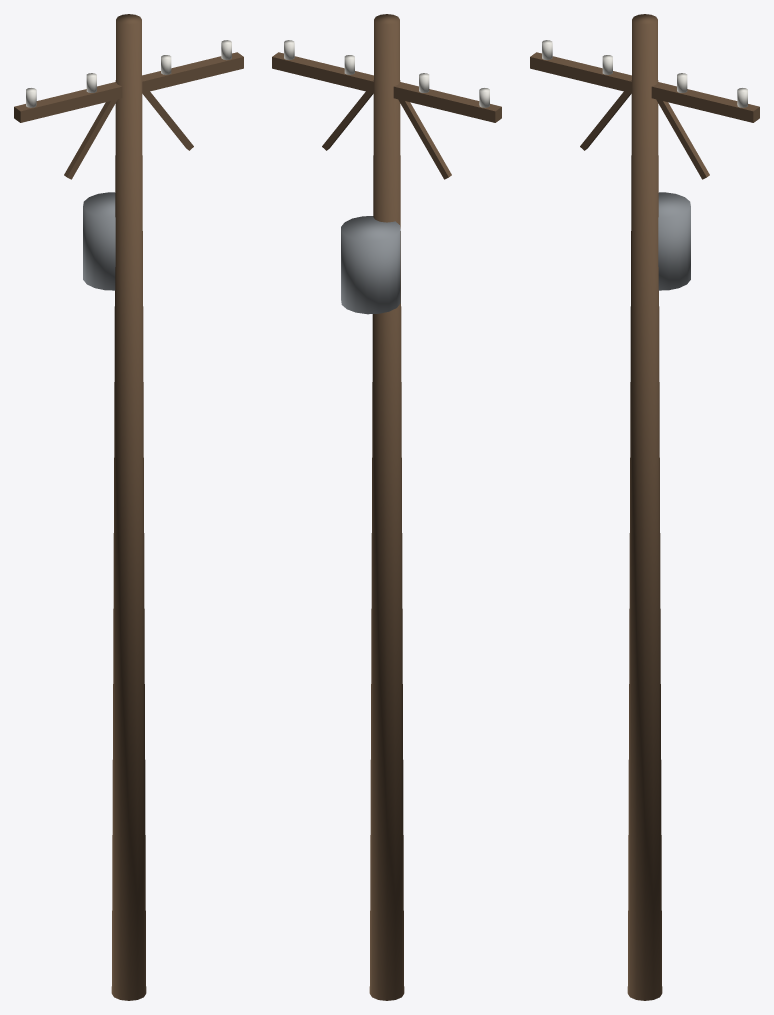
Rendered from power_pole.glb.
3 renders of one model, left to right at view 1: azimuth 30°, elevation 25°; view 2: azimuth 150°, elevation 25°; view 3: azimuth 330°, elevation 25°, orthographic.
Parts seen in each view (by area): view 1: pole, crossarm, transformer, brace2, brace; view 2: pole, transformer, crossarm, brace2, brace; view 3: pole, crossarm, transformer, brace, brace2.
Part boxes in pixels (bbox=[...]): pole: bbox=[111, 14, 146, 1000]; crossarm: bbox=[14, 52, 243, 122]; transformer: bbox=[83, 192, 115, 290]; brace2: bbox=[64, 99, 117, 179]; brace: bbox=[142, 91, 193, 150]; pole: bbox=[369, 14, 404, 1000]; transformer: bbox=[341, 216, 400, 314]; crossarm: bbox=[272, 52, 501, 122]; brace2: bbox=[398, 99, 451, 179]; brace: bbox=[322, 91, 373, 150]; pole: bbox=[627, 14, 662, 1000]; crossarm: bbox=[530, 52, 759, 122]; transformer: bbox=[658, 192, 690, 290]; brace: bbox=[656, 99, 709, 179]; brace2: bbox=[580, 91, 631, 150].
Bounding box in the file's own units: 2.4 × 10 × 0.74.
